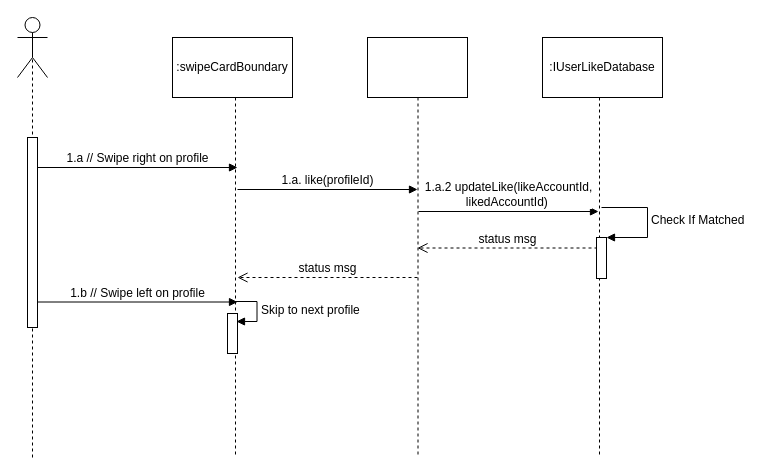
Image size: 762x476. Some labels were removed from this diagram. The centre of each missing label's shape, as x and y in pixels:
:userController: the point at 417,67
User: the point at 32,47
